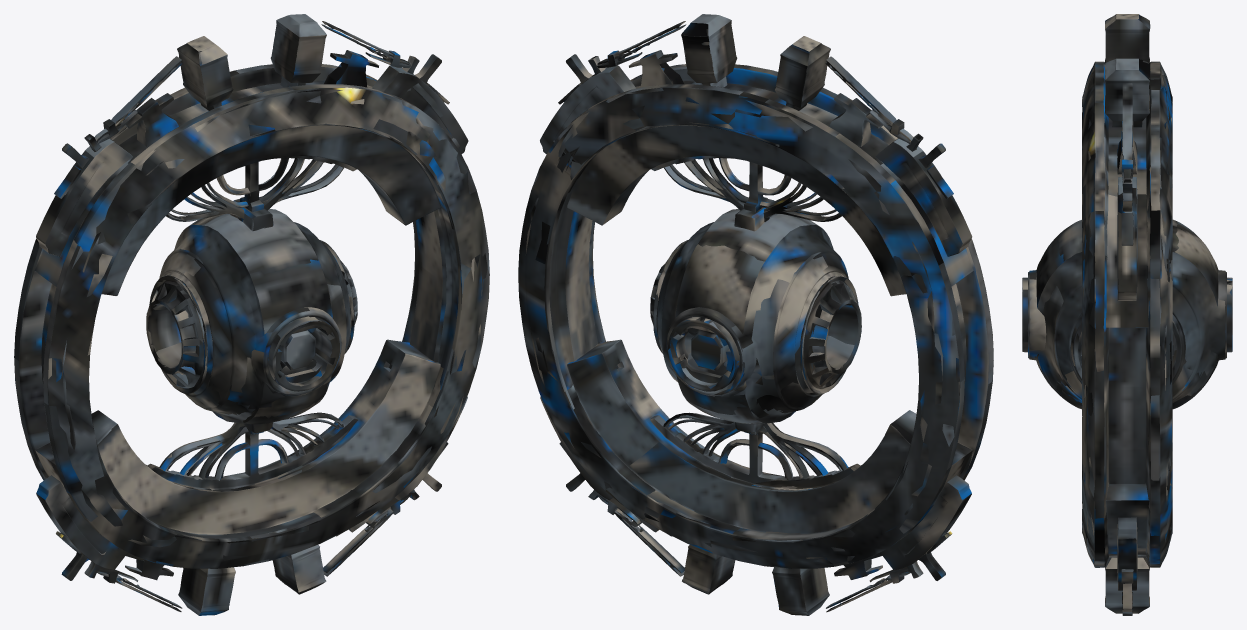
File: relay.glb
3 renders of one model, left to right at view 1: azimuth 30°, elevation 25°; view 2: azimuth 150°, elevation 25°; view 3: azimuth 270°, elevation 25°, orthographic. The views are drawn at different scales.
Visible parts, largest first — view 1: convert; view 2: convert; view 3: convert.
Part boxes in pixels (bbox=[...]): convert: bbox=[14, 14, 489, 615]; convert: bbox=[518, 14, 993, 615]; convert: bbox=[1022, 14, 1232, 615].
Bounding box in the file's own units: 0.9509 × 1.17 × 0.4068.
1 material, 1 textured.
